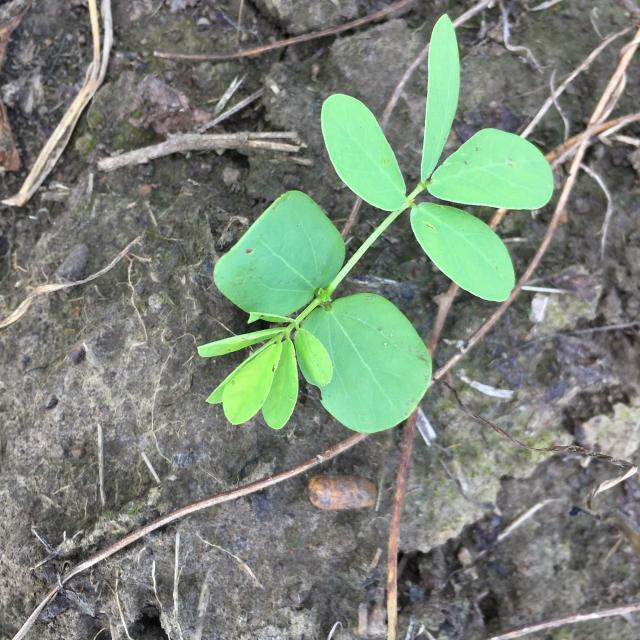Sicklepod: (197, 13, 554, 434)
